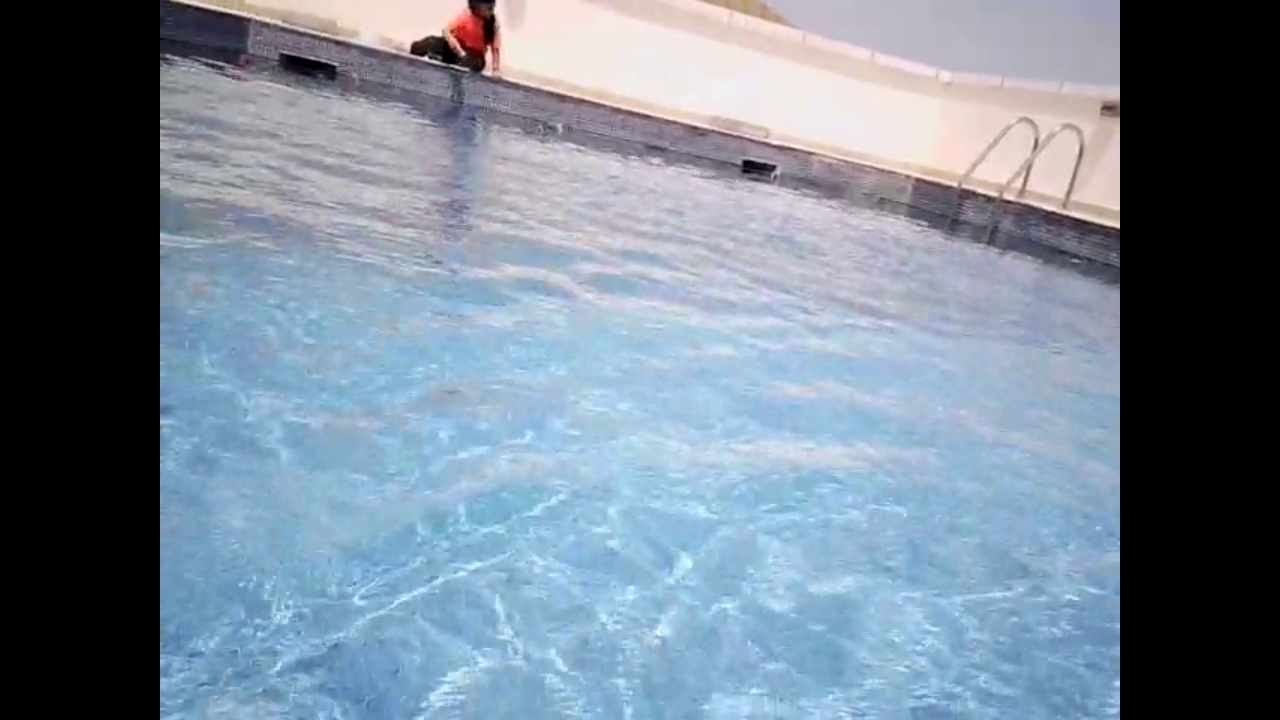debris: (534, 115, 578, 141), (232, 49, 260, 69), (343, 67, 362, 83), (765, 167, 784, 183)
